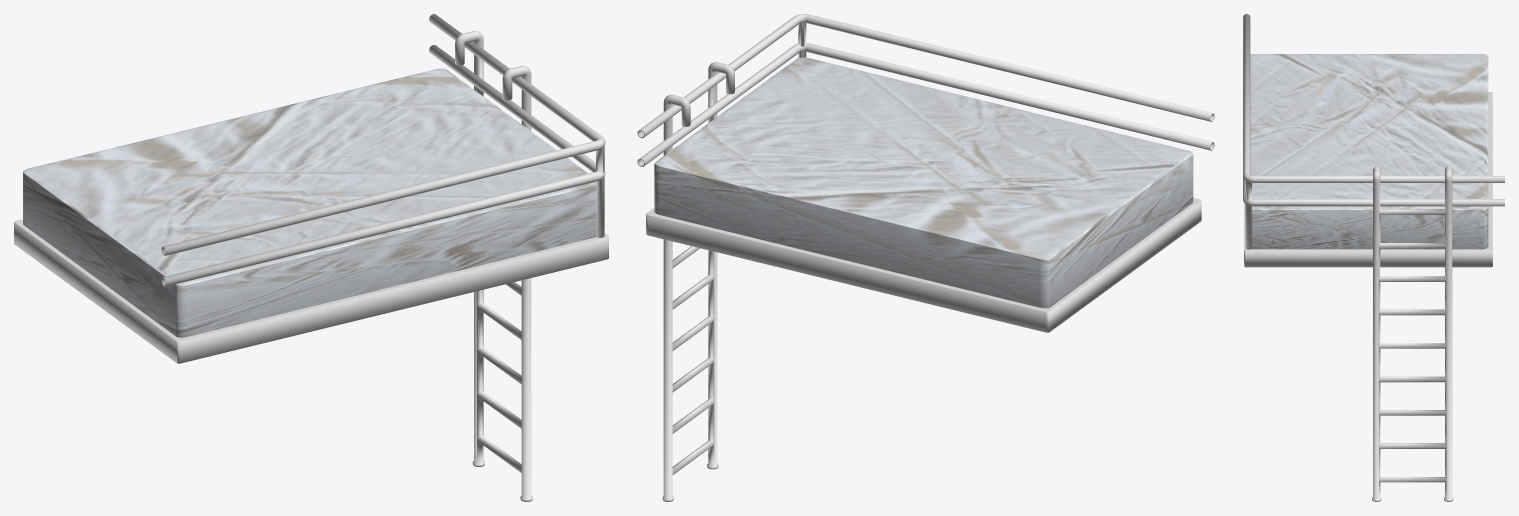
File: TOTALLOFT.fbx
3 renders of one model, left to right at view 1: azimuth 30°, elevation 25°; view 2: azimuth 150°, elevation 25°; view 3: azimuth 270°, elevation 25°, orthographic. The views are drawn at different scales.
Visible parts, largest first — view 1: Cube, LOFTBED, PLANE, STEGE.001; view 2: Cube, LOFTBED, PLANE, STEGE.001; view 3: Cube, STEGE.001, PLANE, LOFTBED.
Part boxes in pixels (x1,y1,x2,y2): Cube: [23, 68, 596, 337]; LOFTBED: [14, 219, 608, 363]; PLANE: [161, 14, 605, 286]; STEGE.001: [455, 31, 532, 501]; Cube: [654, 57, 1193, 308]; LOFTBED: [646, 198, 1201, 332]; PLANE: [637, 14, 1214, 166]; STEGE.001: [662, 62, 734, 501]; Cube: [1250, 54, 1488, 249]; STEGE.001: [1372, 166, 1453, 501]; PLANE: [1243, 14, 1504, 249]; LOFTBED: [1244, 92, 1492, 267].
Size of the model in its own units: 215 by 196 by 142.
